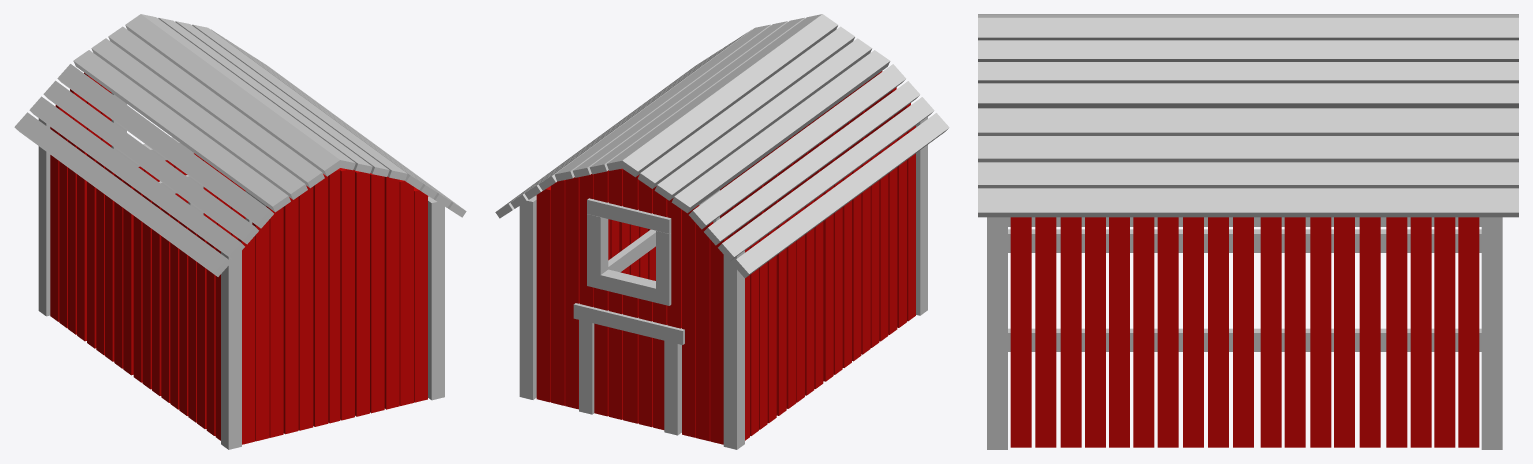
File: SM_Barn_level0_2.fbx
3 renders of one model, left to right at view 1: azimuth 30°, elevation 25°; view 2: azimuth 150°, elevation 25°; view 3: azimuth 270°, elevation 25°, orthographic. The views are drawn at different scales.
Visible parts, largest first — view 1: Cube.197; view 2: Cube.197; view 3: Cube.197.
Boxes of the visible parts, bbox=[...] form: Cube.197: bbox=[14, 14, 466, 449]; Cube.197: bbox=[495, 14, 949, 449]; Cube.197: bbox=[978, 14, 1518, 449].
Size of the model in its own units: 1476 by 1484 by 2016.
